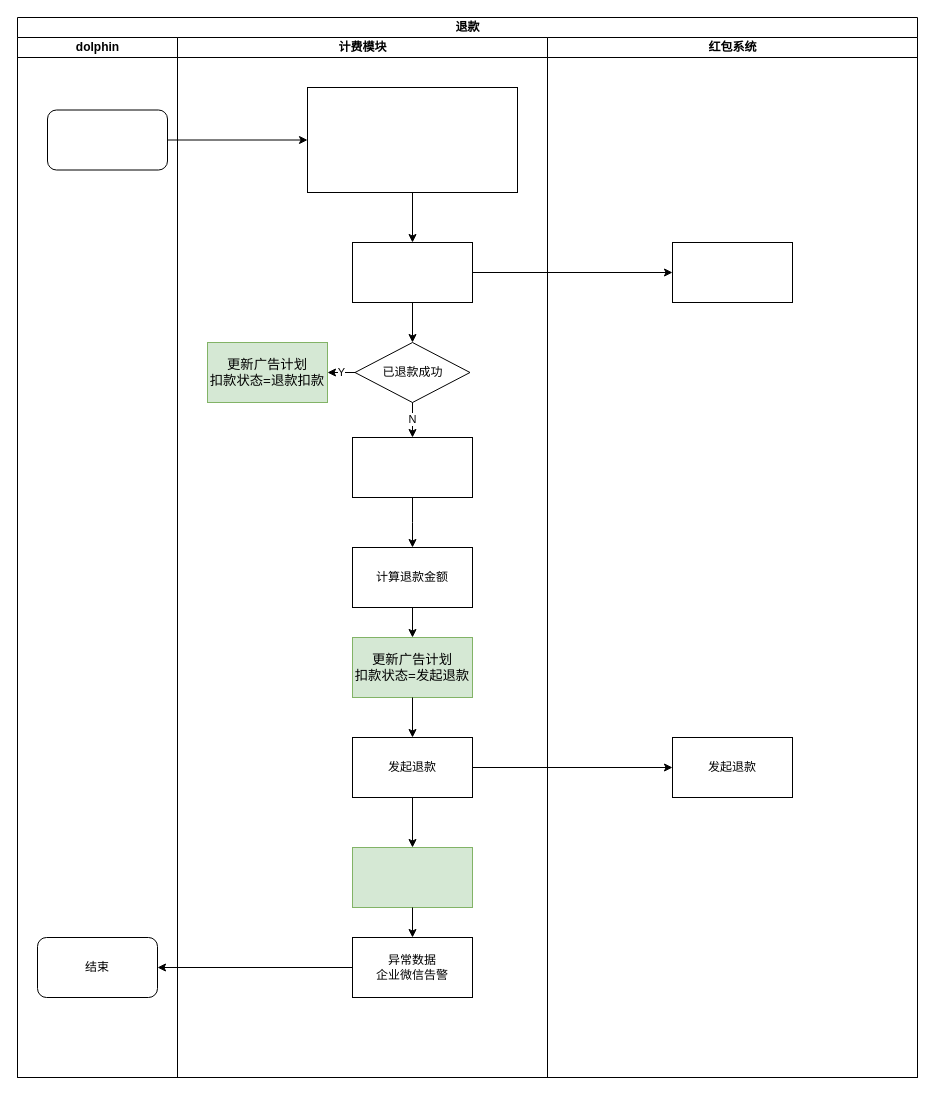
This 935x1095 diagram has some shape labels left out. The shapes that lost their labels are listed below. From the top down, each one's centre as x and y in pixels, then its label:
the point at 107,139: 退款脚本
the point at 412,139: 捞取（已下架或者已过期） && 扣款状态 not in (初始化，已退款成功) 的广告计划
the point at 412,272: 根据扣款单号 查询扣款信息
the point at 732,272: 查询扣款信息
the point at 412,467: 进入退款流程
the point at 412,877: 更新广告计划 扣款状态=退款结果
